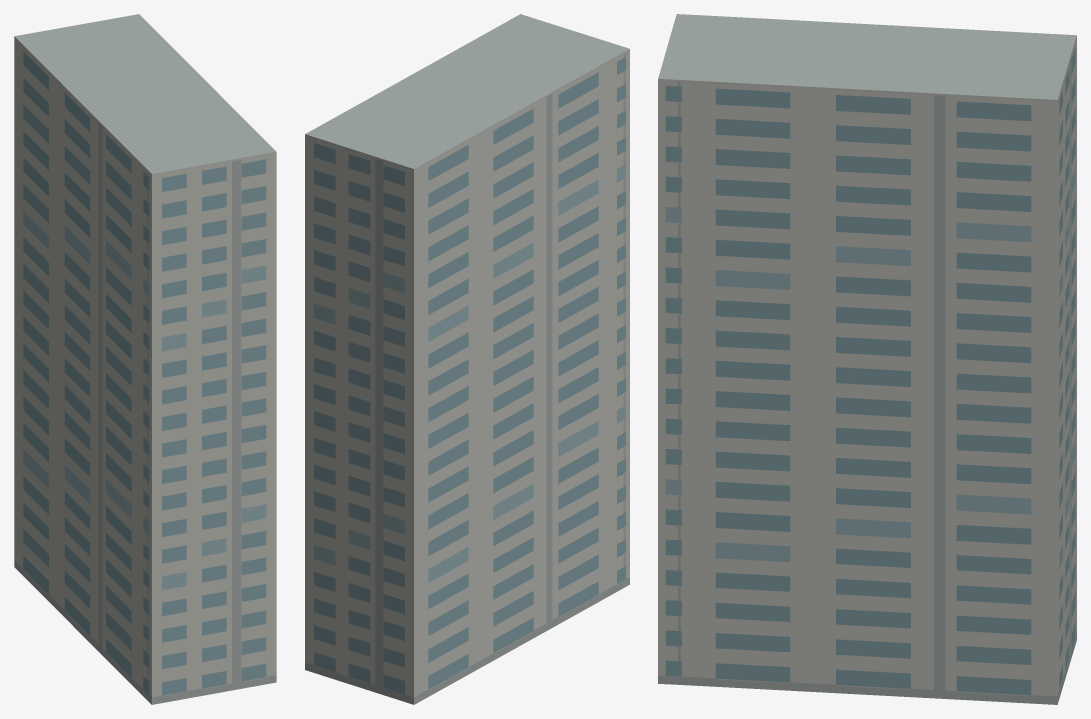
The model's file is residential-11b05a6f-116f-42e3-8a44-6407e53376d3.glb.
3 views of the same model, side by side, from view 1: azimuth 30°, elevation 25°; view 2: azimuth 150°, elevation 25°; view 3: azimuth 270°, elevation 25° (orthographic). The views are drawn at different scales.
Visible parts, largest first — view 1: residential-11b05a6f-116f-42e3-8a44-6407e53376d3.tmp; view 2: residential-11b05a6f-116f-42e3-8a44-6407e53376d3.tmp; view 3: residential-11b05a6f-116f-42e3-8a44-6407e53376d3.tmp.
Boxes of the visible parts, <box> form: residential-11b05a6f-116f-42e3-8a44-6407e53376d3.tmp: <box>14,14,276,704</box>; residential-11b05a6f-116f-42e3-8a44-6407e53376d3.tmp: <box>305,14,629,704</box>; residential-11b05a6f-116f-42e3-8a44-6407e53376d3.tmp: <box>658,14,1076,704</box>.
Bounding box in the file's own units: 21.35 × 70 × 43.93.
